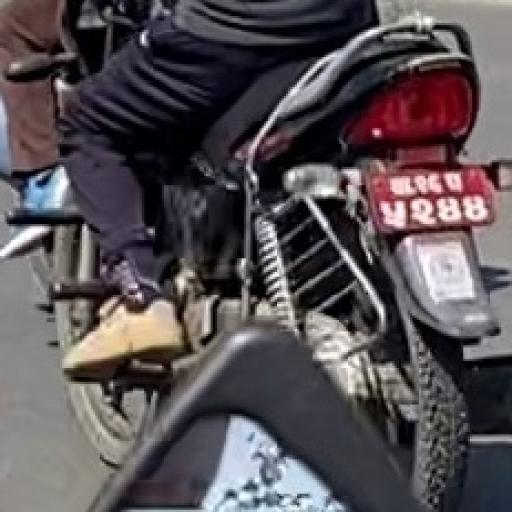license_plate: (368, 161, 508, 240)
